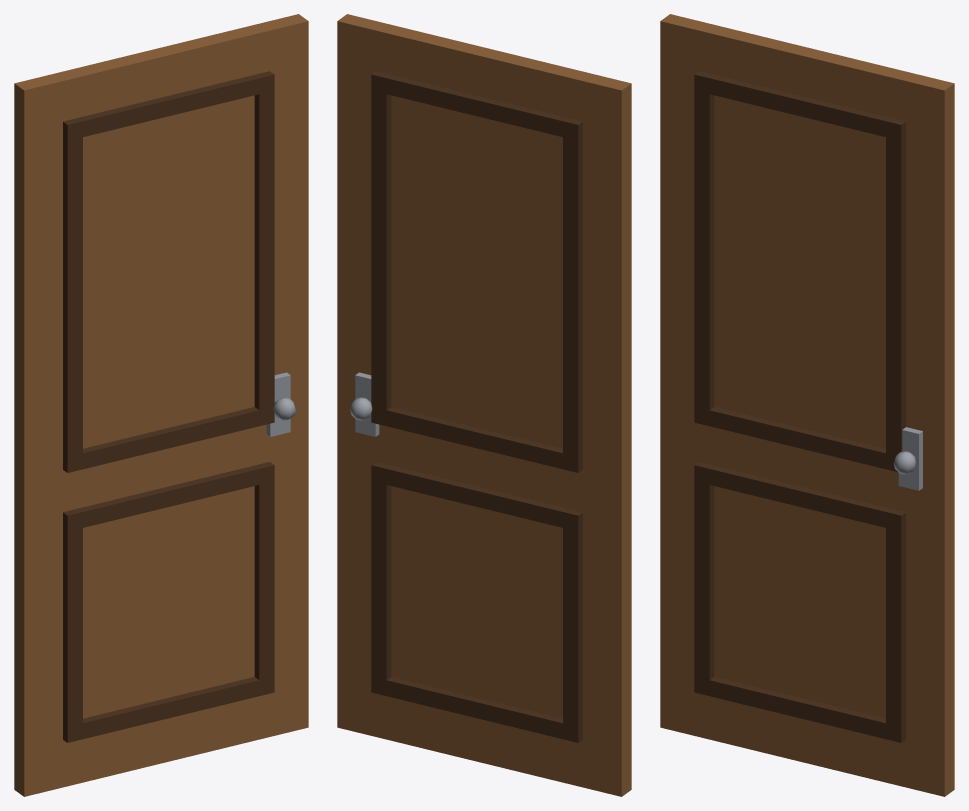
File: SM_Door_slifer_inner_85x200.fbx
3 renders of one model, left to right at view 1: azimuth 30°, elevation 25°; view 2: azimuth 150°, elevation 25°; view 3: azimuth 330°, elevation 25°, orthographic.
Visible parts, largest first — view 1: SM_Door_slifer_inner_85x200; view 2: SM_Door_slifer_inner_85x200; view 3: SM_Door_slifer_inner_85x200.
Part boxes in pixels (box(x1,y1,x2,y2)): SM_Door_slifer_inner_85x200: box(14, 14, 308, 796); SM_Door_slifer_inner_85x200: box(337, 14, 631, 796); SM_Door_slifer_inner_85x200: box(660, 14, 954, 796).
Size of the model in its own units: 0.838 by 1.99 by 0.19.
